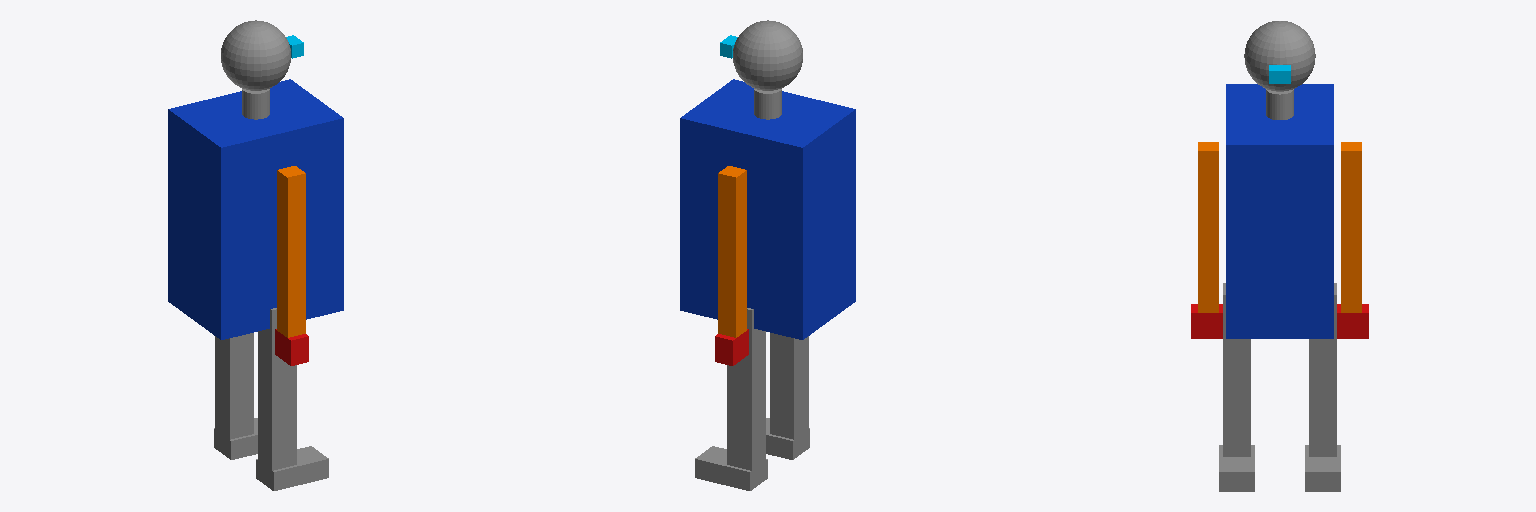
URDF robot description (my_robot):
<?xml version="1.0" ?>
<!-- =================================================================================== -->
<!-- |    This document was autogenerated by xacro from install/my_robot/share/my_robot/urdf/robot.urdf.xacro | -->
<!-- |    EDITING THIS FILE BY HAND IS NOT RECOMMENDED                                 | -->
<!-- =================================================================================== -->
<!--
  xacro source of truth. Expand with:
      xacro robot.urdf.xacro > robot.urdf
  or let the launch file do it with:
      Command(['xacro ', path])

  Macros live in robot_parts.xacro (included below), so the arm and leg
  definitions exist exactly once.
-->
<robot name="my_robot">
  <!-- =========================== materials =========================== -->
  <material name="blue">
    <color rgba="0.10 0.30 0.80 1.0"/>
  </material>
  <material name="grey">
    <color rgba="0.60 0.60 0.60 1.0"/>
  </material>
  <material name="orange">
    <color rgba="1.00 0.50 0.00 1.0"/>
  </material>
  <material name="red">
    <color rgba="0.90 0.10 0.10 1.0"/>
  </material>
  <material name="glass">
    <color rgba="0.00 0.80 1.00 0.5"/>
  </material>
  <!-- ===================== links that exist once ===================== -->
  <link name="base_link">
    <visual>
      <geometry>
        <box size="0.4 0.3 0.6"/>
      </geometry>
      <origin rpy="0 0 0" xyz="0 0 0.8"/>
      <material name="blue"/>
    </visual>
    <collision>
      <geometry>
        <box size="0.4 0.3 0.6"/>
      </geometry>
      <origin rpy="0 0 0" xyz="0 0 0.8"/>
    </collision>
    <inertial>
      <mass value="8.0"/>
      <origin rpy="0 0 0" xyz="0 0 0.8"/>
      <inertia ixx="0.3" ixy="0.0" ixz="0.0" iyy="0.3466666666666667" iyz="0.0" izz="0.16666666666666666"/>
    </inertial>
  </link>
  <link name="neck">
    <visual>
      <geometry>
        <cylinder length="0.08" radius="0.04"/>
      </geometry>
      <origin rpy="0 0 0" xyz="0 0 0.04"/>
      <material name="grey"/>
    </visual>
    <collision>
      <geometry>
        <cylinder length="0.08" radius="0.04"/>
      </geometry>
      <origin rpy="0 0 0" xyz="0 0 0.04"/>
    </collision>
    <inertial>
      <mass value="0.2"/>
      <origin rpy="0 0 0" xyz="0 0 0.04"/>
      <inertia ixx="0.0001866666666666667" ixy="0.0" ixz="0.0" iyy="0.0001866666666666667" iyz="0.0" izz="0.00016"/>
    </inertial>
  </link>
  <link name="head">
    <visual>
      <geometry>
        <sphere radius="0.1"/>
      </geometry>
      <origin rpy="0 0 0" xyz="0 0 0.1"/>
      <material name="grey"/>
    </visual>
    <collision>
      <geometry>
        <sphere radius="0.1"/>
      </geometry>
      <origin rpy="0 0 0" xyz="0 0 0.1"/>
    </collision>
    <inertial>
      <mass value="1.0"/>
      <origin rpy="0 0 0" xyz="0 0 0.1"/>
      <inertia ixx="0.004000000000000001" ixy="0.0" ixz="0.0" iyy="0.004000000000000001" iyz="0.0" izz="0.004000000000000001"/>
    </inertial>
  </link>
  <link name="camera">
    <visual>
      <geometry>
        <box size="0.04 0.06 0.04"/>
      </geometry>
      <origin rpy="0 0 0" xyz="0 0 0"/>
      <material name="glass"/>
    </visual>
    <collision>
      <geometry>
        <box size="0.04 0.06 0.04"/>
      </geometry>
      <origin rpy="0 0 0" xyz="0 0 0"/>
    </collision>
    <inertial>
      <mass value="0.1"/>
      <origin rpy="0 0 0" xyz="0 0 0"/>
      <inertia ixx="4.333333333333333e-05" ixy="0.0" ixz="0.0" iyy="2.666666666666667e-05" iyz="0.0" izz="4.333333333333333e-05"/>
    </inertial>
  </link>
  <joint name="base_to_neck" type="fixed">
    <parent link="base_link"/>
    <child link="neck"/>
    <origin rpy="0 0 0" xyz="0 0 1.1"/>
  </joint>
  <joint name="neck_to_head" type="revolute">
    <parent link="neck"/>
    <child link="head"/>
    <origin rpy="0 0 0" xyz="0 0 0.08"/>
    <axis xyz="0 0 1"/>
    <limit effort="5.0" lower="-1.0" upper="1.0" velocity="1.0"/>
    <dynamics damping="0.1" friction="0.05"/>
  </joint>
  <joint name="head_to_camera" type="fixed">
    <parent link="head"/>
    <child link="camera"/>
    <origin rpy="0 0 0" xyz="0.12 0 0.1"/>
  </joint>
  <link name="left_upper_arm">
    <visual>
      <geometry>
        <box size="0.25 0.06 0.06"/>
      </geometry>
      <origin rpy="0 0 0" xyz="0.125 0 0"/>
      <material name="orange"/>
    </visual>
    <collision>
      <geometry>
        <box size="0.25 0.06 0.06"/>
      </geometry>
      <origin rpy="0 0 0" xyz="0.125 0 0"/>
    </collision>
    <inertial>
      <mass value="0.8"/>
      <origin rpy="0 0 0" xyz="0.125 0 0"/>
      <inertia ixx="0.00048" ixy="0.0" ixz="0.0" iyy="0.004406666666666667" iyz="0.0" izz="0.004406666666666667"/>
    </inertial>
  </link>
  <link name="left_lower_arm">
    <visual>
      <geometry>
        <box size="0.25 0.06 0.06"/>
      </geometry>
      <origin rpy="0 0 0" xyz="0.125 0 0"/>
      <material name="orange"/>
    </visual>
    <collision>
      <geometry>
        <box size="0.25 0.06 0.06"/>
      </geometry>
      <origin rpy="0 0 0" xyz="0.125 0 0"/>
    </collision>
    <inertial>
      <mass value="0.5"/>
      <origin rpy="0 0 0" xyz="0.125 0 0"/>
      <inertia ixx="0.0003" ixy="0.0" ixz="0.0" iyy="0.002754166666666667" iyz="0.0" izz="0.002754166666666667"/>
    </inertial>
  </link>
  <link name="left_gripper">
    <visual>
      <geometry>
        <mesh filename="package://my_robot/meshes/gripper.stl" scale="1 1 1"/>
      </geometry>
      <origin rpy="0 0 0" xyz="0.04 0 0"/>
      <material name="red"/>
    </visual>
    <collision>
      <geometry>
        <box size="0.08 0.1 0.06"/>
      </geometry>
      <origin rpy="0 0 0" xyz="0.04 0 0"/>
    </collision>
    <inertial>
      <mass value="0.2"/>
      <origin rpy="0 0 0" xyz="0.04 0 0"/>
      <inertia ixx="0.00022666666666666668" ixy="0.0" ixz="0.0" iyy="0.00016666666666666666" iyz="0.0" izz="0.0002733333333333334"/>
    </inertial>
  </link>
  <joint name="base_to_left_upper_arm" type="continuous">
    <parent link="base_link"/>
    <child link="left_upper_arm"/>
    <origin rpy="0 1.5708 0" xyz="0 0.2 1.0"/>
    <axis xyz="0 1 0"/>
    <dynamics damping="0.1" friction="0.05"/>
  </joint>
  <joint name="left_elbow" type="revolute">
    <parent link="left_upper_arm"/>
    <child link="left_lower_arm"/>
    <origin rpy="0 0 0" xyz="0.25 0 0"/>
    <axis xyz="0 1 0"/>
    <limit effort="10.0" lower="-1.5708" upper="1.5708" velocity="1.0"/>
    <dynamics damping="0.1" friction="0.05"/>
  </joint>
  <joint name="left_wrist" type="fixed">
    <parent link="left_lower_arm"/>
    <child link="left_gripper"/>
    <origin rpy="0 0 0" xyz="0.25 0 0"/>
  </joint>
  <link name="right_upper_arm">
    <visual>
      <geometry>
        <box size="0.25 0.06 0.06"/>
      </geometry>
      <origin rpy="0 0 0" xyz="0.125 0 0"/>
      <material name="orange"/>
    </visual>
    <collision>
      <geometry>
        <box size="0.25 0.06 0.06"/>
      </geometry>
      <origin rpy="0 0 0" xyz="0.125 0 0"/>
    </collision>
    <inertial>
      <mass value="0.8"/>
      <origin rpy="0 0 0" xyz="0.125 0 0"/>
      <inertia ixx="0.00048" ixy="0.0" ixz="0.0" iyy="0.004406666666666667" iyz="0.0" izz="0.004406666666666667"/>
    </inertial>
  </link>
  <link name="right_lower_arm">
    <visual>
      <geometry>
        <box size="0.25 0.06 0.06"/>
      </geometry>
      <origin rpy="0 0 0" xyz="0.125 0 0"/>
      <material name="orange"/>
    </visual>
    <collision>
      <geometry>
        <box size="0.25 0.06 0.06"/>
      </geometry>
      <origin rpy="0 0 0" xyz="0.125 0 0"/>
    </collision>
    <inertial>
      <mass value="0.5"/>
      <origin rpy="0 0 0" xyz="0.125 0 0"/>
      <inertia ixx="0.0003" ixy="0.0" ixz="0.0" iyy="0.002754166666666667" iyz="0.0" izz="0.002754166666666667"/>
    </inertial>
  </link>
  <link name="right_gripper">
    <visual>
      <geometry>
        <mesh filename="package://my_robot/meshes/gripper.stl" scale="1 1 1"/>
      </geometry>
      <origin rpy="0 0 0" xyz="0.04 0 0"/>
      <material name="red"/>
    </visual>
    <collision>
      <geometry>
        <box size="0.08 0.1 0.06"/>
      </geometry>
      <origin rpy="0 0 0" xyz="0.04 0 0"/>
    </collision>
    <inertial>
      <mass value="0.2"/>
      <origin rpy="0 0 0" xyz="0.04 0 0"/>
      <inertia ixx="0.00022666666666666668" ixy="0.0" ixz="0.0" iyy="0.00016666666666666666" iyz="0.0" izz="0.0002733333333333334"/>
    </inertial>
  </link>
  <joint name="base_to_right_upper_arm" type="continuous">
    <parent link="base_link"/>
    <child link="right_upper_arm"/>
    <origin rpy="0 1.5708 0" xyz="0 -0.2 1.0"/>
    <axis xyz="0 1 0"/>
    <dynamics damping="0.1" friction="0.05"/>
  </joint>
  <joint name="right_elbow" type="revolute">
    <parent link="right_upper_arm"/>
    <child link="right_lower_arm"/>
    <origin rpy="0 0 0" xyz="0.25 0 0"/>
    <axis xyz="0 1 0"/>
    <limit effort="10.0" lower="-1.5708" upper="1.5708" velocity="1.0"/>
    <dynamics damping="0.1" friction="0.05"/>
  </joint>
  <joint name="right_wrist" type="fixed">
    <parent link="right_lower_arm"/>
    <child link="right_gripper"/>
    <origin rpy="0 0 0" xyz="0.25 0 0"/>
  </joint>
  <link name="left_upper_leg">
    <visual>
      <geometry>
        <box size="0.25 0.08 0.08"/>
      </geometry>
      <origin rpy="0 0 0" xyz="0.125 0 0"/>
      <material name="grey"/>
    </visual>
    <collision>
      <geometry>
        <box size="0.25 0.08 0.08"/>
      </geometry>
      <origin rpy="0 0 0" xyz="0.125 0 0"/>
    </collision>
    <inertial>
      <mass value="1.0"/>
      <origin rpy="0 0 0" xyz="0.125 0 0"/>
      <inertia ixx="0.0010666666666666667" ixy="0.0" ixz="0.0" iyy="0.005741666666666667" iyz="0.0" izz="0.005741666666666667"/>
    </inertial>
  </link>
  <link name="left_lower_leg">
    <visual>
      <geometry>
        <box size="0.25 0.08 0.08"/>
      </geometry>
      <origin rpy="0 0 0" xyz="0.125 0 0"/>
      <material name="grey"/>
    </visual>
    <collision>
      <geometry>
        <box size="0.25 0.08 0.08"/>
      </geometry>
      <origin rpy="0 0 0" xyz="0.125 0 0"/>
    </collision>
    <inertial>
      <mass value="0.6"/>
      <origin rpy="0 0 0" xyz="0.125 0 0"/>
      <inertia ixx="0.00064" ixy="0.0" ixz="0.0" iyy="0.003445" iyz="0.0" izz="0.003445"/>
    </inertial>
  </link>
  <link name="left_foot">
    <visual>
      <geometry>
        <box size="0.06 0.1 0.18"/>
      </geometry>
      <origin rpy="0 0 0" xyz="0.03 0 0.05"/>
      <material name="grey"/>
    </visual>
    <collision>
      <geometry>
        <box size="0.06 0.1 0.18"/>
      </geometry>
      <origin rpy="0 0 0" xyz="0.03 0 0.05"/>
    </collision>
    <inertial>
      <mass value="0.3"/>
      <origin rpy="0 0 0" xyz="0.03 0 0.05"/>
      <inertia ixx="0.00106" ixy="0.0" ixz="0.0" iyy="0.0008999999999999999" iyz="0.0" izz="0.00034"/>
    </inertial>
  </link>
  <joint name="base_to_left_upper_leg" type="continuous">
    <parent link="base_link"/>
    <child link="left_upper_leg"/>
    <origin rpy="0 1.5708 0" xyz="0 0.12 0.56"/>
    <axis xyz="0 1 0"/>
    <limit effort="10.0" lower="-1.5708" upper="1.5708" velocity="1.0"/>
    <dynamics damping="0.1" friction="0.05"/>
  </joint>
  <joint name="left_knee" type="revolute">
    <parent link="left_upper_leg"/>
    <child link="left_lower_leg"/>
    <origin rpy="0 0 0" xyz="0.25 0 0"/>
    <axis xyz="0 1 0"/>
    <limit effort="10.0" lower="-1.5708" upper="1.5708" velocity="1.0"/>
    <dynamics damping="0.1" friction="0.05"/>
  </joint>
  <joint name="left_ankle" type="fixed">
    <parent link="left_lower_leg"/>
    <child link="left_foot"/>
    <origin rpy="0 0 0" xyz="0.25 0 0"/>
  </joint>
  <link name="right_upper_leg">
    <visual>
      <geometry>
        <box size="0.25 0.08 0.08"/>
      </geometry>
      <origin rpy="0 0 0" xyz="0.125 0 0"/>
      <material name="grey"/>
    </visual>
    <collision>
      <geometry>
        <box size="0.25 0.08 0.08"/>
      </geometry>
      <origin rpy="0 0 0" xyz="0.125 0 0"/>
    </collision>
    <inertial>
      <mass value="1.0"/>
      <origin rpy="0 0 0" xyz="0.125 0 0"/>
      <inertia ixx="0.0010666666666666667" ixy="0.0" ixz="0.0" iyy="0.005741666666666667" iyz="0.0" izz="0.005741666666666667"/>
    </inertial>
  </link>
  <link name="right_lower_leg">
    <visual>
      <geometry>
        <box size="0.25 0.08 0.08"/>
      </geometry>
      <origin rpy="0 0 0" xyz="0.125 0 0"/>
      <material name="grey"/>
    </visual>
    <collision>
      <geometry>
        <box size="0.25 0.08 0.08"/>
      </geometry>
      <origin rpy="0 0 0" xyz="0.125 0 0"/>
    </collision>
    <inertial>
      <mass value="0.6"/>
      <origin rpy="0 0 0" xyz="0.125 0 0"/>
      <inertia ixx="0.00064" ixy="0.0" ixz="0.0" iyy="0.003445" iyz="0.0" izz="0.003445"/>
    </inertial>
  </link>
  <link name="right_foot">
    <visual>
      <geometry>
        <box size="0.06 0.1 0.18"/>
      </geometry>
      <origin rpy="0 0 0" xyz="0.03 0 0.05"/>
      <material name="grey"/>
    </visual>
    <collision>
      <geometry>
        <box size="0.06 0.1 0.18"/>
      </geometry>
      <origin rpy="0 0 0" xyz="0.03 0 0.05"/>
    </collision>
    <inertial>
      <mass value="0.3"/>
      <origin rpy="0 0 0" xyz="0.03 0 0.05"/>
      <inertia ixx="0.00106" ixy="0.0" ixz="0.0" iyy="0.0008999999999999999" iyz="0.0" izz="0.00034"/>
    </inertial>
  </link>
  <joint name="base_to_right_upper_leg" type="continuous">
    <parent link="base_link"/>
    <child link="right_upper_leg"/>
    <origin rpy="0 1.5708 0" xyz="0 -0.12 0.56"/>
    <axis xyz="0 1 0"/>
    <limit effort="10.0" lower="-1.5708" upper="1.5708" velocity="1.0"/>
    <dynamics damping="0.1" friction="0.05"/>
  </joint>
  <joint name="right_knee" type="revolute">
    <parent link="right_upper_leg"/>
    <child link="right_lower_leg"/>
    <origin rpy="0 0 0" xyz="0.25 0 0"/>
    <axis xyz="0 1 0"/>
    <limit effort="10.0" lower="-1.5708" upper="1.5708" velocity="1.0"/>
    <dynamics damping="0.1" friction="0.05"/>
  </joint>
  <joint name="right_ankle" type="fixed">
    <parent link="right_lower_leg"/>
    <child link="right_foot"/>
    <origin rpy="0 0 0" xyz="0.25 0 0"/>
  </joint>
</robot>

--- Render facts (derived) ---
The picture shows the robot from 3 angles, left to right: view 1: azimuth 30°, elevation 25°; view 2: azimuth 150°, elevation 25°; view 3: azimuth 270°, elevation 25°; orthographic projection.
Model my_robot with 16 links and 15 joints (5 revolute, 4 continuous, 6 fixed), rooted at base_link, posed all joints at 0.
Visible links, largest first — view 1: base_link, head, left_lower_leg, right_lower_leg, right_upper_arm, right_lower_arm, right_foot, right_upper_leg, left_foot, right_gripper, neck, left_upper_leg; view 2: base_link, head, right_lower_leg, left_lower_leg, left_upper_arm, left_lower_arm, left_foot, left_upper_leg, right_foot, left_gripper, neck, right_upper_leg; view 3: base_link, head, left_lower_leg, right_lower_leg, left_upper_arm, right_upper_arm, left_lower_arm, right_lower_arm, left_foot, right_foot, left_upper_leg, right_upper_leg (+3 smaller).
Link boxes in pixels (x1,y1,x2,y2): base_link: [168, 79, 343, 339]; head: [221, 20, 290, 90]; left_lower_leg: [215, 349, 253, 439]; right_lower_leg: [258, 381, 296, 470]; right_upper_arm: [277, 166, 305, 257]; right_lower_arm: [277, 251, 305, 337]; right_foot: [256, 446, 328, 490]; right_upper_leg: [258, 308, 296, 390]; left_foot: [214, 418, 257, 459]; right_gripper: [275, 329, 308, 365]; neck: [242, 89, 269, 119]; left_upper_leg: [215, 333, 253, 359]; base_link: [680, 79, 855, 339]; head: [733, 20, 802, 90]; right_lower_leg: [770, 349, 808, 439]; left_lower_leg: [727, 381, 765, 470]; left_upper_arm: [718, 166, 746, 257]; left_lower_arm: [718, 251, 746, 337]; left_foot: [695, 446, 767, 490]; left_upper_leg: [727, 308, 765, 390]; right_foot: [766, 418, 809, 459]; left_gripper: [715, 329, 748, 365]; neck: [754, 89, 781, 119]; right_upper_leg: [770, 333, 808, 359]; base_link: [1226, 84, 1333, 338]; head: [1244, 21, 1315, 91]; left_lower_leg: [1309, 376, 1336, 456]; right_lower_leg: [1223, 376, 1250, 456]; left_upper_arm: [1341, 142, 1361, 231]; right_upper_arm: [1198, 142, 1218, 231]; left_lower_arm: [1341, 232, 1361, 312]; right_lower_arm: [1198, 232, 1218, 312]; left_foot: [1305, 445, 1340, 491]; right_foot: [1219, 445, 1254, 491]; left_upper_leg: [1309, 283, 1336, 375]; right_upper_leg: [1223, 283, 1250, 375].
Bounding box of the posed robot: 0.4 × 0.5 × 1.38 m (x, y, z).
2 mesh visuals loaded from 1 distinct referenced files (1 ASCII STL).
